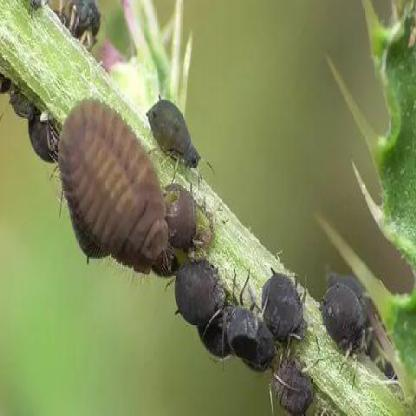aphid: (57, 97, 168, 274), (210, 281, 282, 376), (318, 272, 373, 375), (146, 88, 203, 179), (169, 252, 220, 336), (155, 173, 208, 252), (266, 263, 312, 341), (17, 98, 57, 164), (269, 365, 319, 416), (62, 0, 102, 53)
